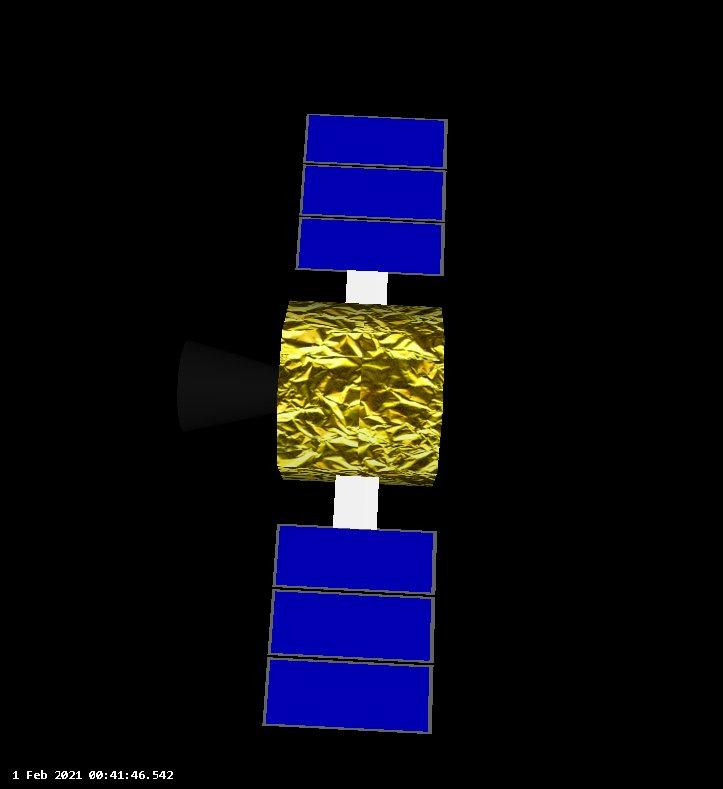body: (273, 297, 449, 490)
solar: (259, 522, 437, 743), (294, 109, 450, 279)
thruster: (171, 334, 279, 437)
